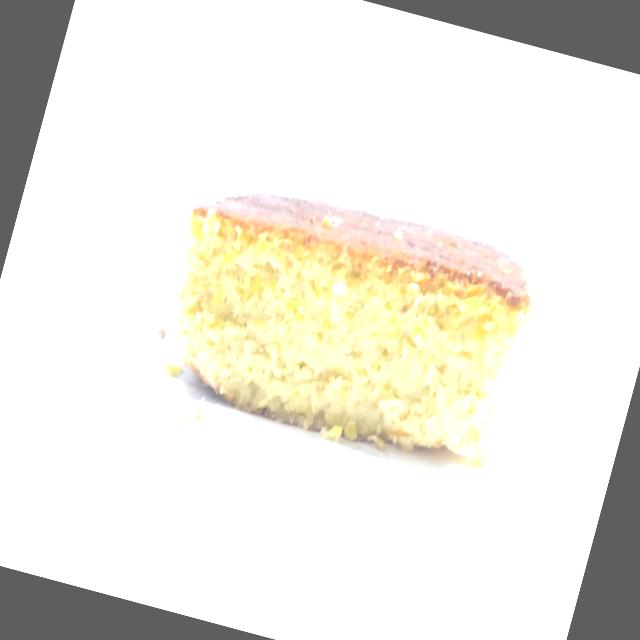Chipa_Guazu: (129, 131, 563, 494)
